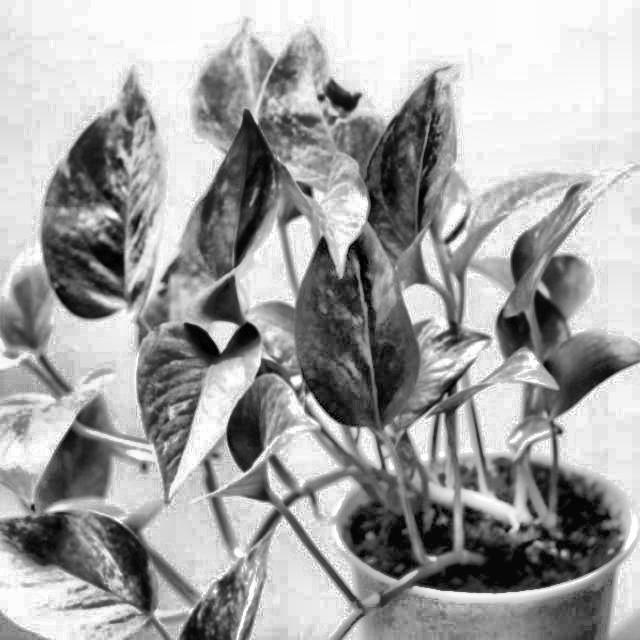plants: (6, 35, 630, 639), (141, 238, 236, 338)
